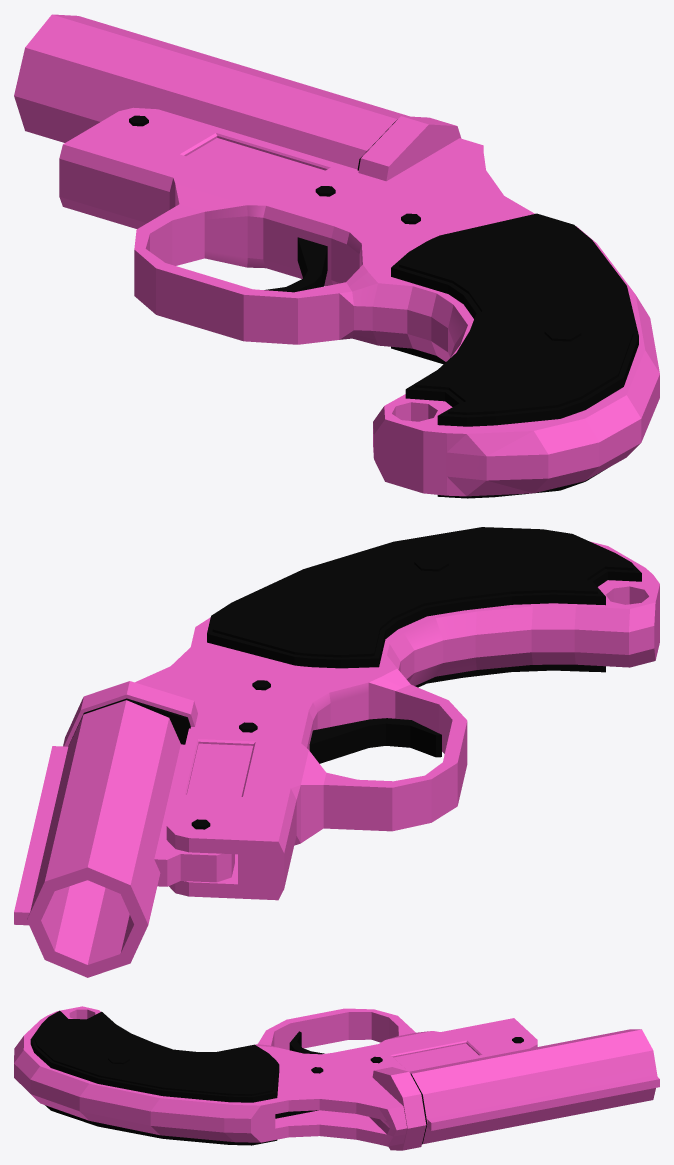
Rendered from ToyObject_060.fbx.
The picture shows the model from 3 angles, top to bottom: view 1: azimuth 30°, elevation 25°; view 2: azimuth 150°, elevation 25°; view 3: azimuth 270°, elevation 25°; orthographic projection. The views are drawn at different scales.
Parts seen in each view (by area): view 1: 1.029; view 2: 1.029; view 3: 1.029.
Part boxes in pixels (bbox=[...]): 1.029: bbox=[14, 14, 659, 498]; 1.029: bbox=[14, 527, 659, 977]; 1.029: bbox=[14, 1006, 659, 1150].
Size of the model in its own units: 0.0757 by 0.0245 by 0.1913.
